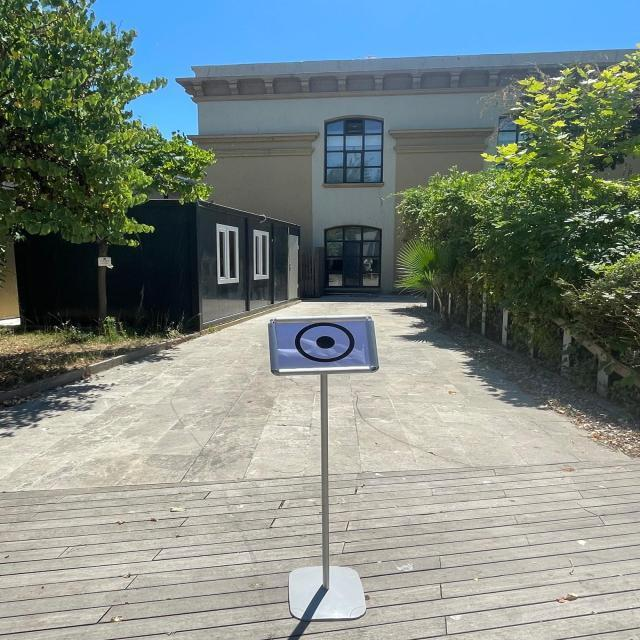Target: (250, 296, 398, 388)
inner: (312, 330, 341, 356)
